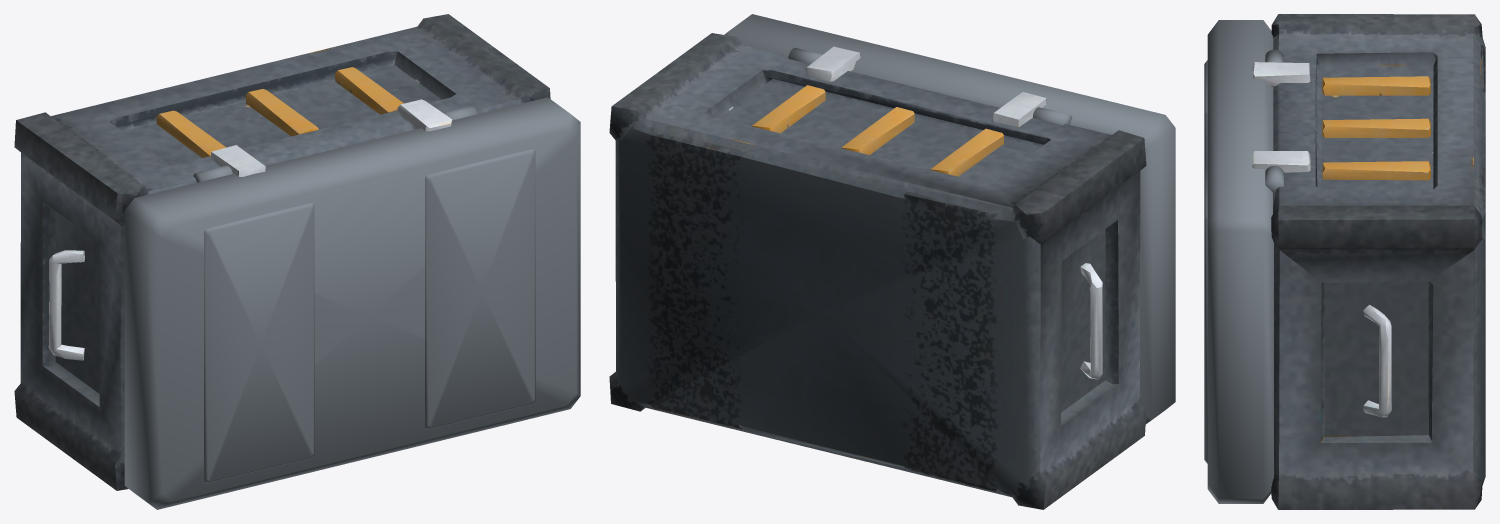
Rendered from sci_fi_crate_LOD1.glb.
3 views of the same model, side by side, from view 1: azimuth 30°, elevation 25°; view 2: azimuth 150°, elevation 25°; view 3: azimuth 270°, elevation 25° (orthographic). The views are drawn at different scales.
Parts seen in each view (by area): view 1: lid_mesh, SM_sci_fi_crate_Body; view 2: SM_sci_fi_crate_Body, lid_mesh; view 3: SM_sci_fi_crate_Body, lid_mesh.
Boxes of the visible parts, bbox=[...] form: lid_mesh: bbox=[124, 97, 580, 509]; SM_sci_fi_crate_Body: bbox=[14, 14, 550, 490]; SM_sci_fi_crate_Body: bbox=[609, 33, 1146, 509]; lid_mesh: bbox=[724, 14, 1175, 424]; SM_sci_fi_crate_Body: bbox=[1252, 14, 1485, 509]; lid_mesh: bbox=[1204, 20, 1283, 503].
Size of the model in its own units: 0.9262 by 0.5939 by 0.506.
2 materials, 1 textured.
